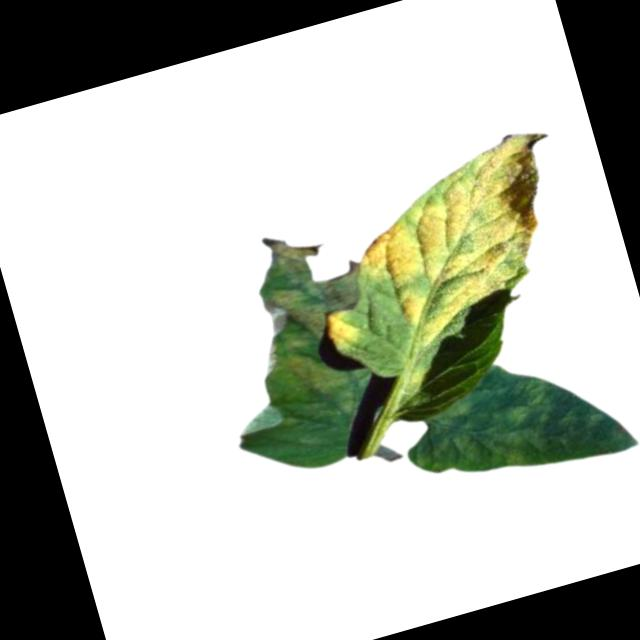Leaf_Mold: (339, 124, 594, 359), (396, 333, 639, 507), (228, 212, 397, 424)
